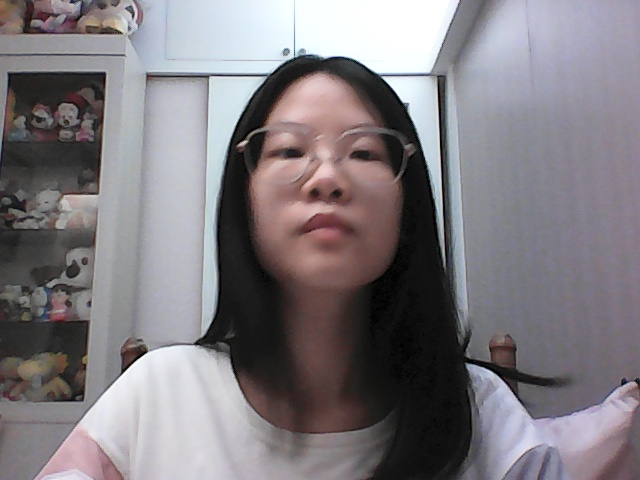NoMask: (239, 168, 411, 297)
